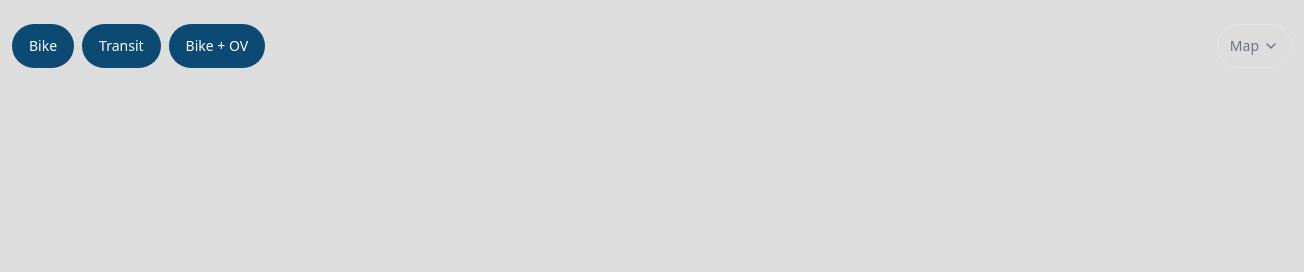
Test: Escape closes the map tools and hands focus back
Click the button with aria-label "map options".
click(1254, 46)  # box top-left (1217, 24), bottom-right (1292, 68)
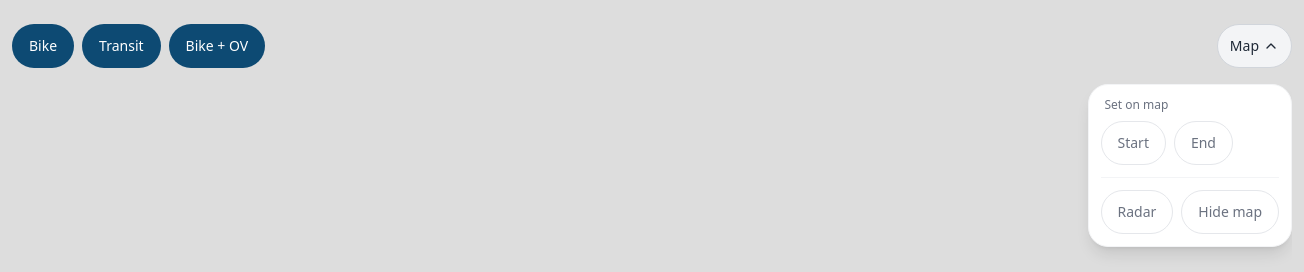
Now the button "Radar" is shown, box top-left (1100, 190), bottom-right (1173, 234)
Press Escape
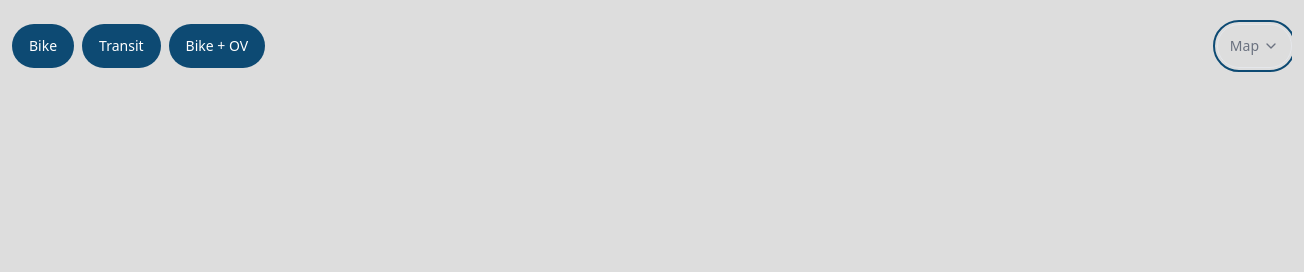
Now the button "Radar" is gone
